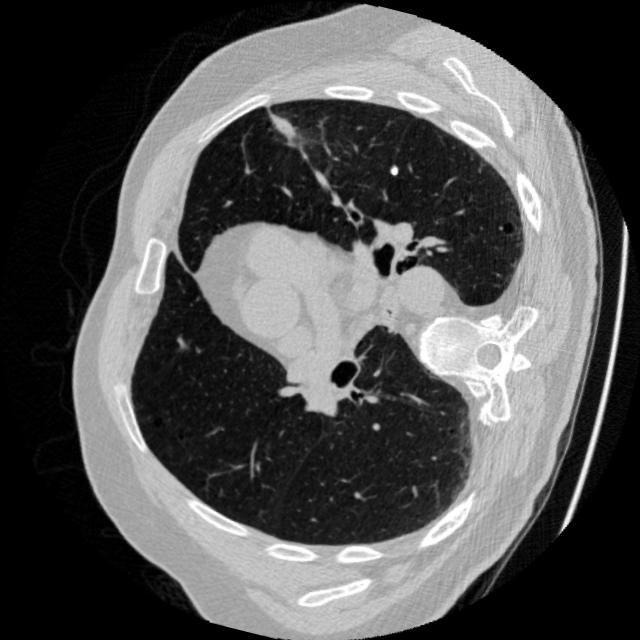nodule: (380, 158, 407, 185)
